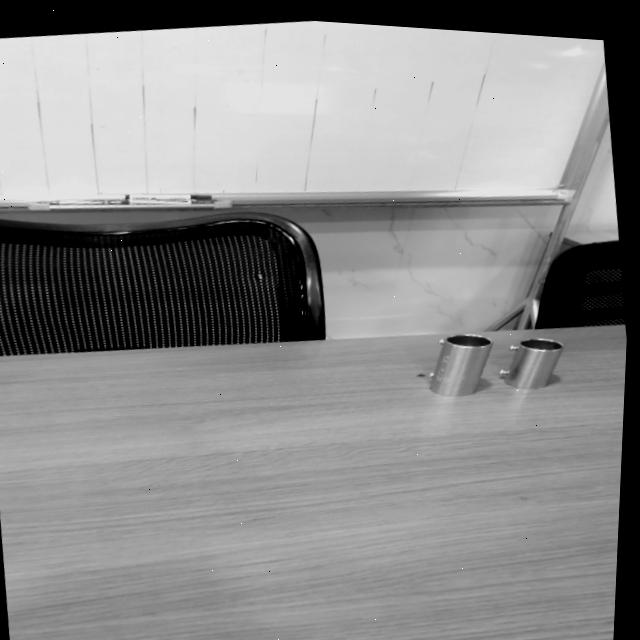Co_Lon: (422, 323, 492, 404)
Co_Nho: (501, 328, 563, 396)
